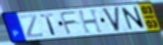F: (58, 10, 79, 36)
H: (77, 8, 105, 35)
N: (120, 6, 148, 31)
T: (39, 12, 58, 36)
V: (101, 6, 121, 33)
Z: (19, 14, 45, 39)
